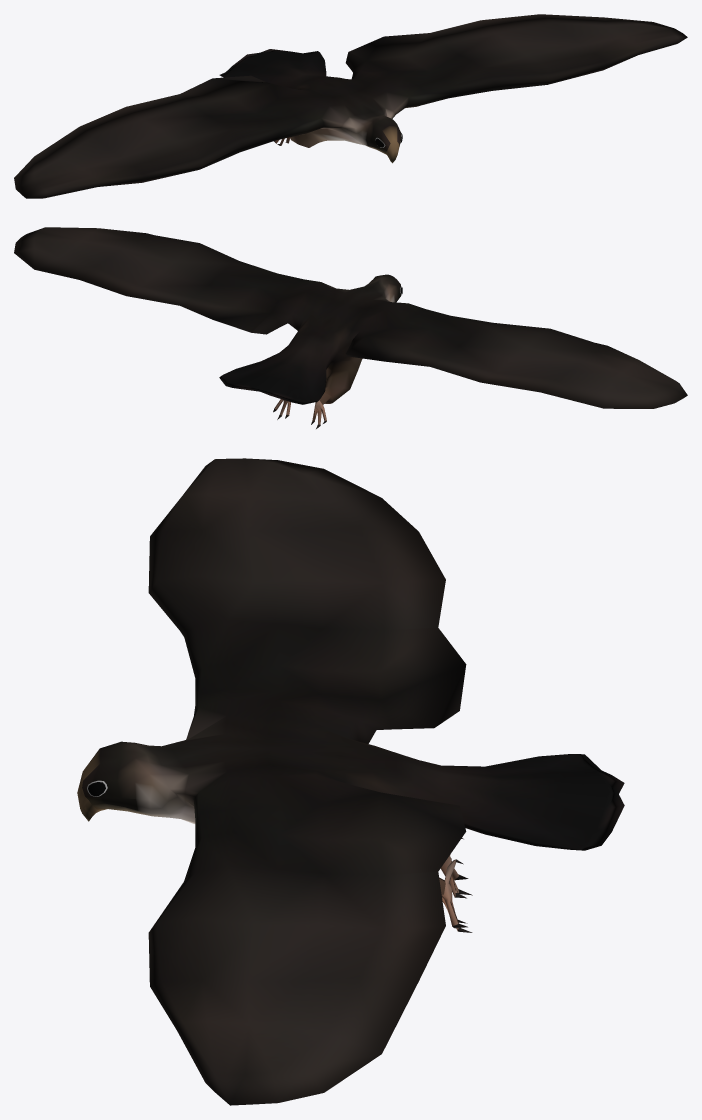
The model's file is animals-birds-falcon_v1.glb.
The picture shows the model from 3 angles, top to bottom: view 1: azimuth 30°, elevation 25°; view 2: azimuth 150°, elevation 25°; view 3: azimuth 270°, elevation 25°; orthographic projection. The views are drawn at different scales.
Visible parts, largest first — view 1: Falcon.001; view 2: Falcon.001; view 3: Falcon.001.
Part boxes in pixels (box(x1,y1,x2,y2)): Falcon.001: box(14, 14, 687, 198); Falcon.001: box(14, 227, 687, 428); Falcon.001: box(77, 458, 624, 1105).
Bounding box in the file's own units: 1.54 × 0.1952 × 0.5517.
